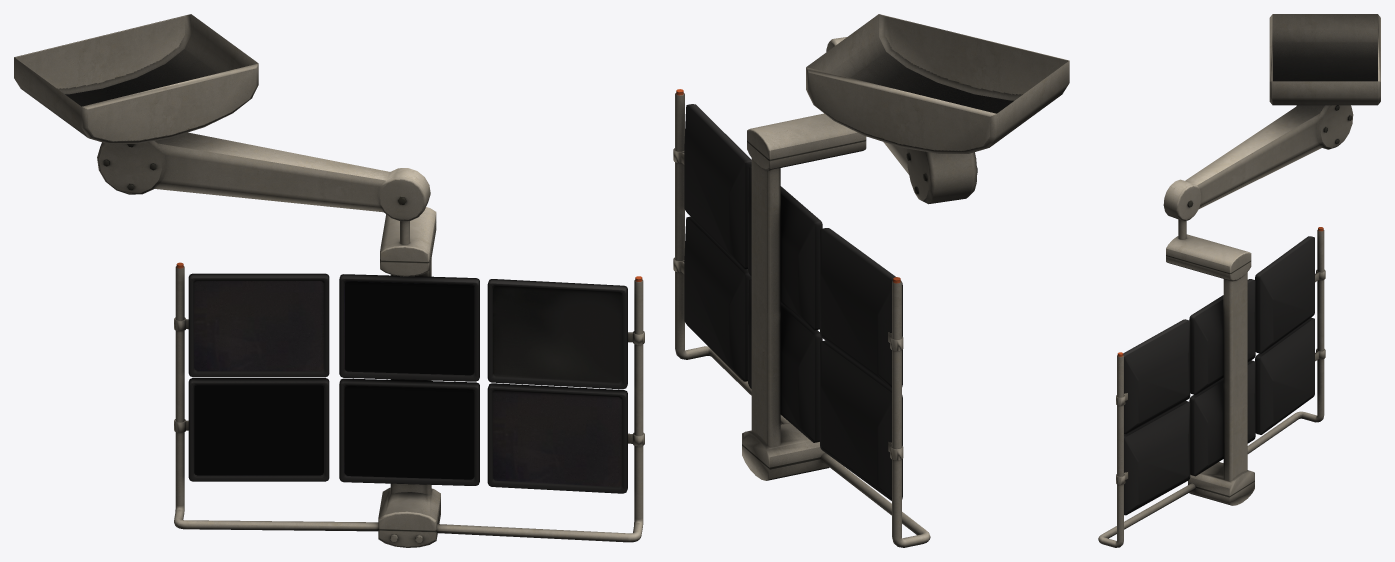
File: monitorsystem.fbx
3 views of the same model, side by side, from view 1: azimuth 30°, elevation 25°; view 2: azimuth 150°, elevation 25°; view 3: azimuth 270°, elevation 25° (orthographic). The views are drawn at different scales.
Visible parts, largest first — view 1: Mesh; view 2: Mesh; view 3: Mesh.
Boxes of the visible parts, x1,y1,x2,y2 form: Mesh: (14,14,644,547); Mesh: (673,14,1069,547); Mesh: (1098,14,1380,547).
Bounding box in the file's own units: 161 × 157 × 109.
